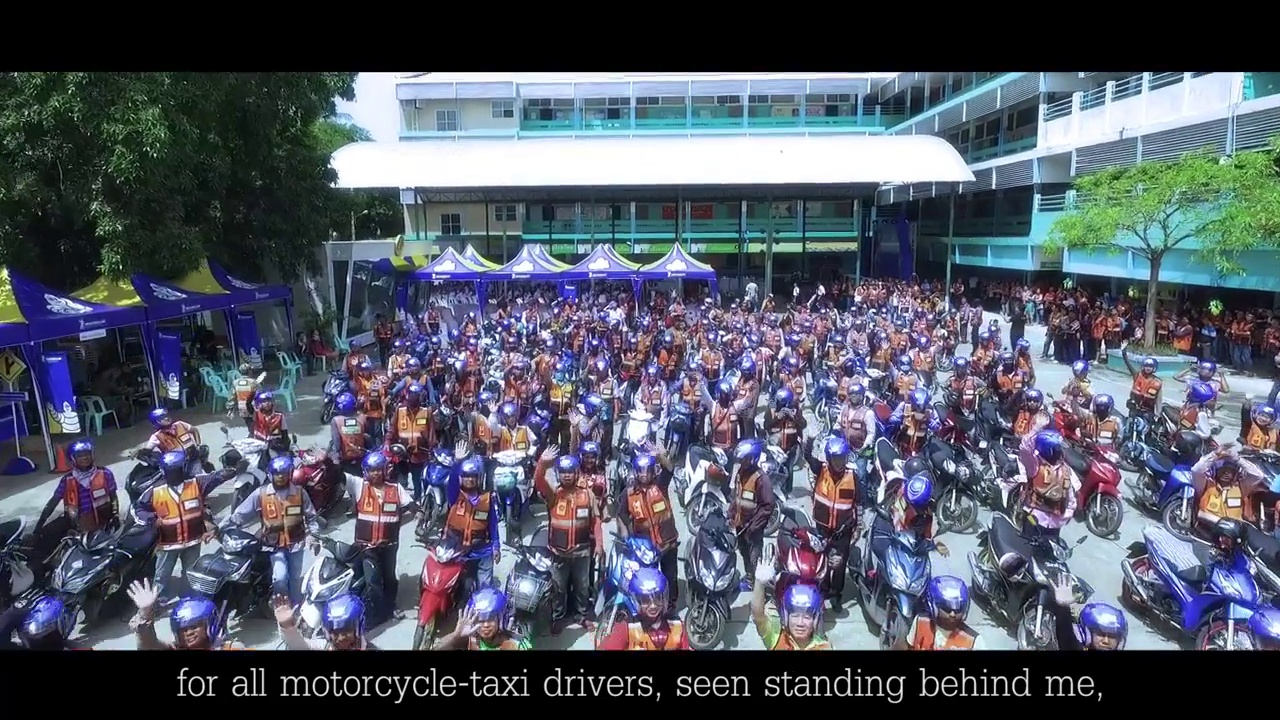helmet: (13, 597, 80, 649), (455, 589, 522, 637), (774, 577, 823, 635), (167, 592, 225, 637), (1070, 601, 1130, 640), (933, 575, 967, 626), (621, 575, 674, 607), (549, 445, 583, 494), (158, 441, 198, 481), (263, 443, 297, 488), (729, 438, 762, 476), (364, 448, 398, 482), (450, 458, 487, 488), (66, 433, 97, 460), (143, 402, 172, 429), (150, 402, 179, 429)
